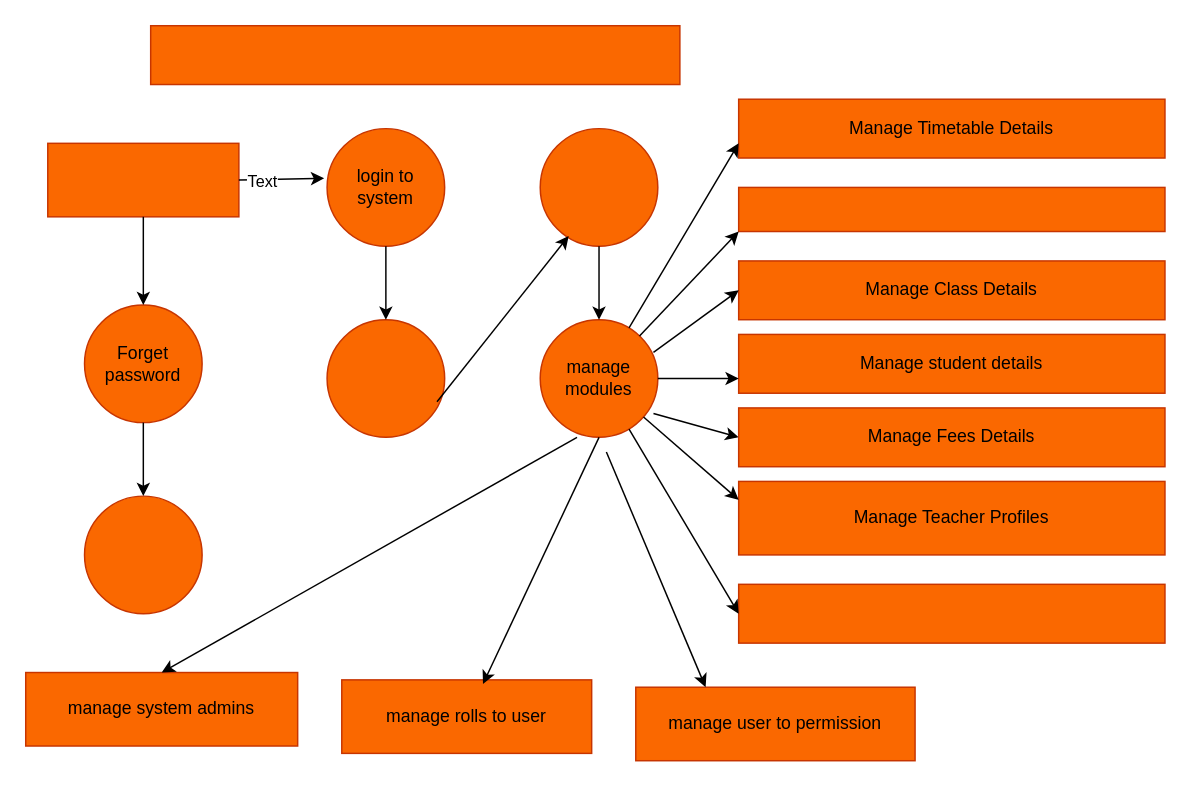
Some shapes in this 1191 by 786 pixel diagram are drawn without their labels. The shapes that lost their labels are listed below. From the top down, each one's centre as x and y in pixels, then its label:
(x=414, y=54): Student information system
(x=142, y=179): Admin
(x=598, y=186): check roles of access
(x=951, y=209): Manage Attendence Details
(x=385, y=377): check credintals
(x=142, y=554): send email to user
